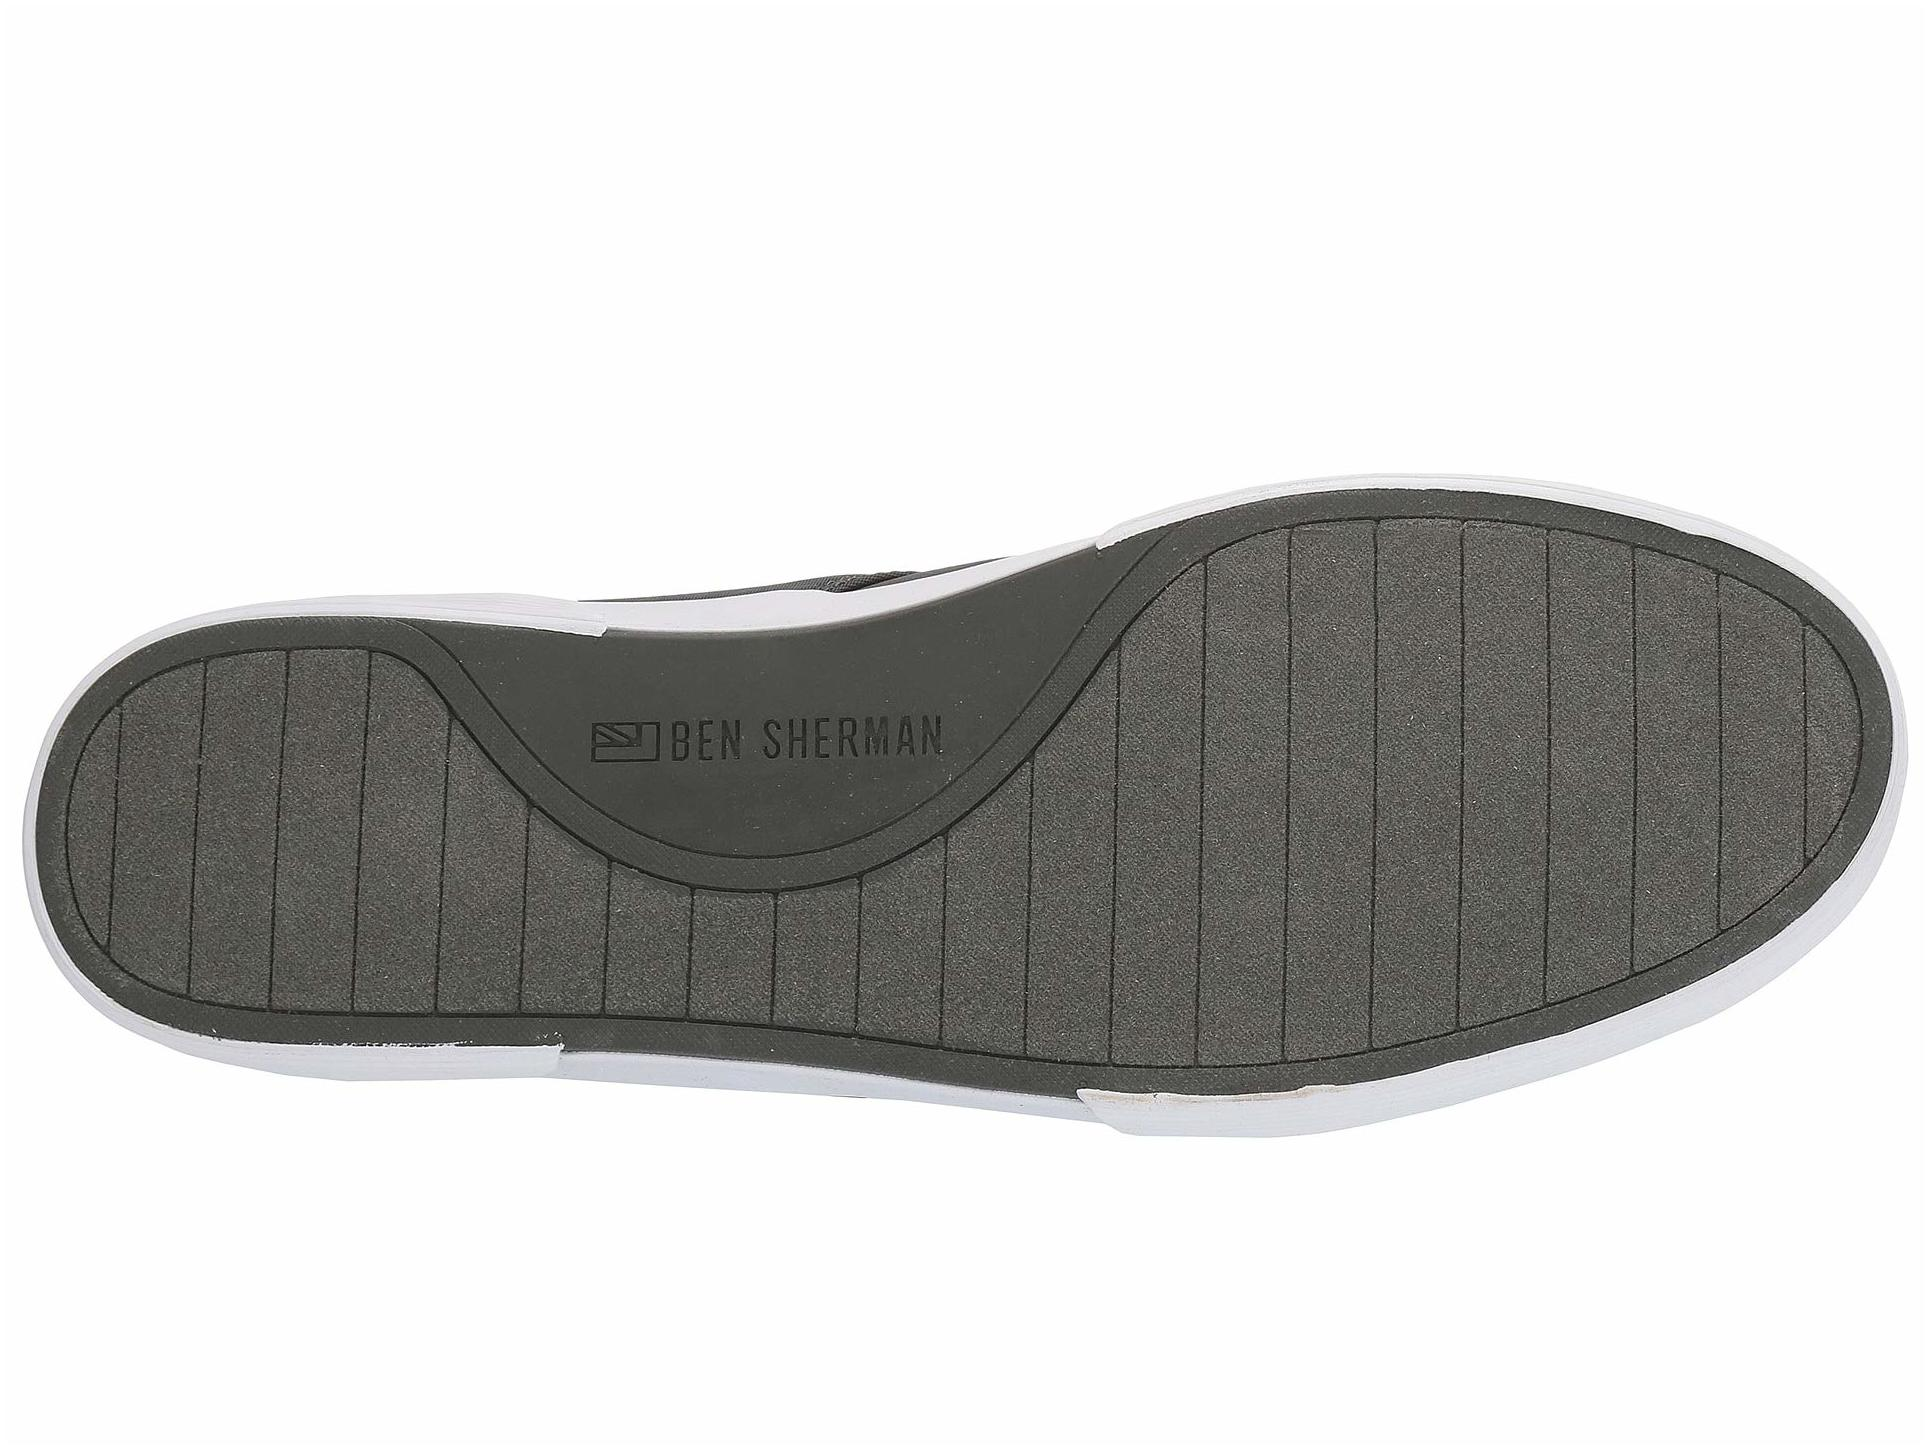line: (1184, 635, 1534, 985), (139, 733, 411, 969)
quad: (574, 687, 756, 810)
text: (778, 669, 952, 821), (574, 687, 756, 810)
